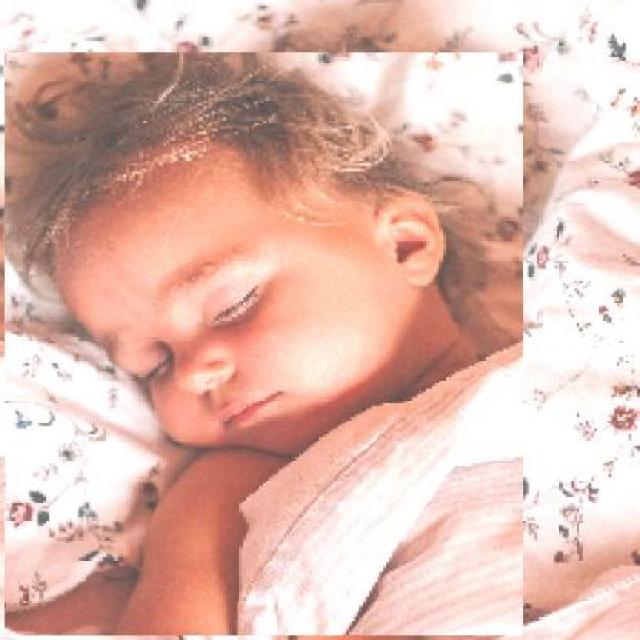child: (3, 52, 523, 637)
